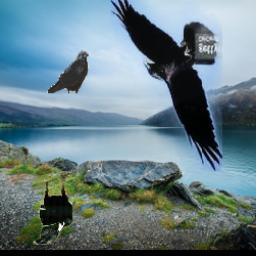Crow: (110, 0, 222, 172), (34, 173, 73, 246), (48, 50, 90, 93)
